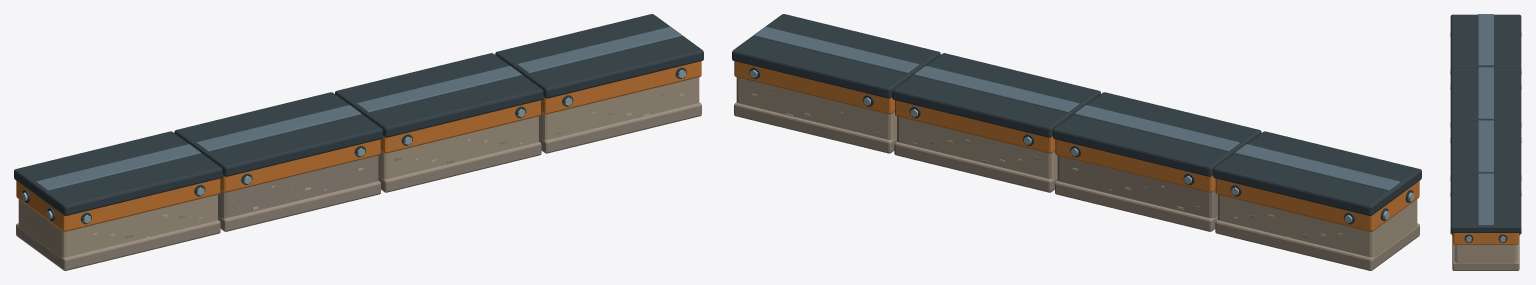
File: wsc-module-002-range-lane-curbing.glb
3 renders of one model, left to right at view 1: azimuth 30°, elevation 25°; view 2: azimuth 150°, elevation 25°; view 3: azimuth 270°, elevation 25°, orthographic. The views are drawn at different scales.
Visible parts, largest first — view 1: WSC-MODULE-002 | Gunmetal, WSC-MODULE-002 | Stone variation, WSC-MODULE-002 | Light concrete, WSC-MODULE-002 | Amber enamel, WSC-MODULE-002 | Slate steel, WSC-MODULE-002 | Worn edge; view 2: WSC-MODULE-002 | Gunmetal, WSC-MODULE-002 | Stone variation, WSC-MODULE-002 | Light concrete, WSC-MODULE-002 | Amber enamel, WSC-MODULE-002 | Slate steel, WSC-MODULE-002 | Worn edge; view 3: WSC-MODULE-002 | Gunmetal, WSC-MODULE-002 | Slate steel, WSC-MODULE-002 | Light concrete, WSC-MODULE-002 | Amber enamel, WSC-MODULE-002 | Stone variation, WSC-MODULE-002 | Worn edge.
Boxes of the visible parts, x1,y1,x2,y2 form: WSC-MODULE-002 | Gunmetal: (14, 14, 703, 224); WSC-MODULE-002 | Stone variation: (16, 93, 701, 270); WSC-MODULE-002 | Light concrete: (18, 77, 699, 257); WSC-MODULE-002 | Amber enamel: (16, 61, 701, 231); WSC-MODULE-002 | Slate steel: (35, 26, 682, 191); WSC-MODULE-002 | Worn edge: (21, 70, 685, 223); WSC-MODULE-002 | Gunmetal: (732, 14, 1421, 224); WSC-MODULE-002 | Stone variation: (734, 93, 1419, 270); WSC-MODULE-002 | Light concrete: (736, 77, 1417, 257); WSC-MODULE-002 | Amber enamel: (734, 61, 1419, 231); WSC-MODULE-002 | Slate steel: (753, 26, 1400, 191); WSC-MODULE-002 | Worn edge: (750, 70, 1414, 223); WSC-MODULE-002 | Gunmetal: (1450, 14, 1521, 242); WSC-MODULE-002 | Slate steel: (1478, 14, 1493, 225); WSC-MODULE-002 | Light concrete: (1454, 244, 1517, 263); WSC-MODULE-002 | Amber enamel: (1453, 233, 1518, 244); WSC-MODULE-002 | Stone variation: (1452, 233, 1519, 270); WSC-MODULE-002 | Worn edge: (1450, 31, 1521, 242).
Size of the model in its own units: 4.51 by 0.4555 by 0.6354.
